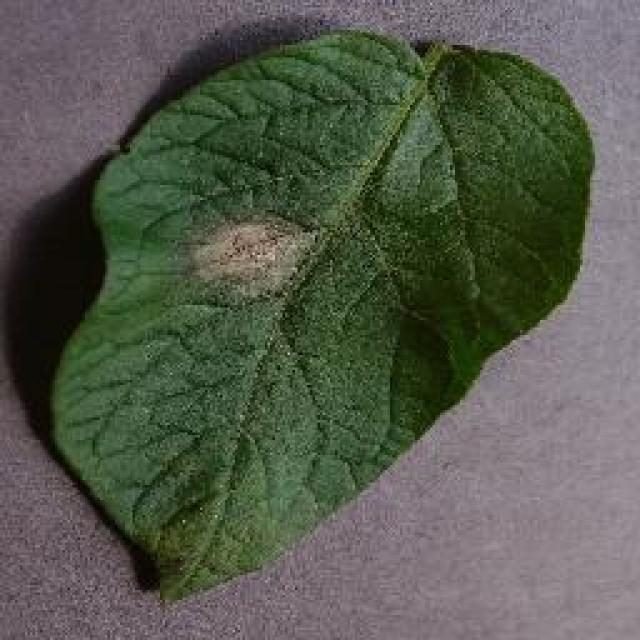Potato___Late_blight: (51, 31, 596, 610)
